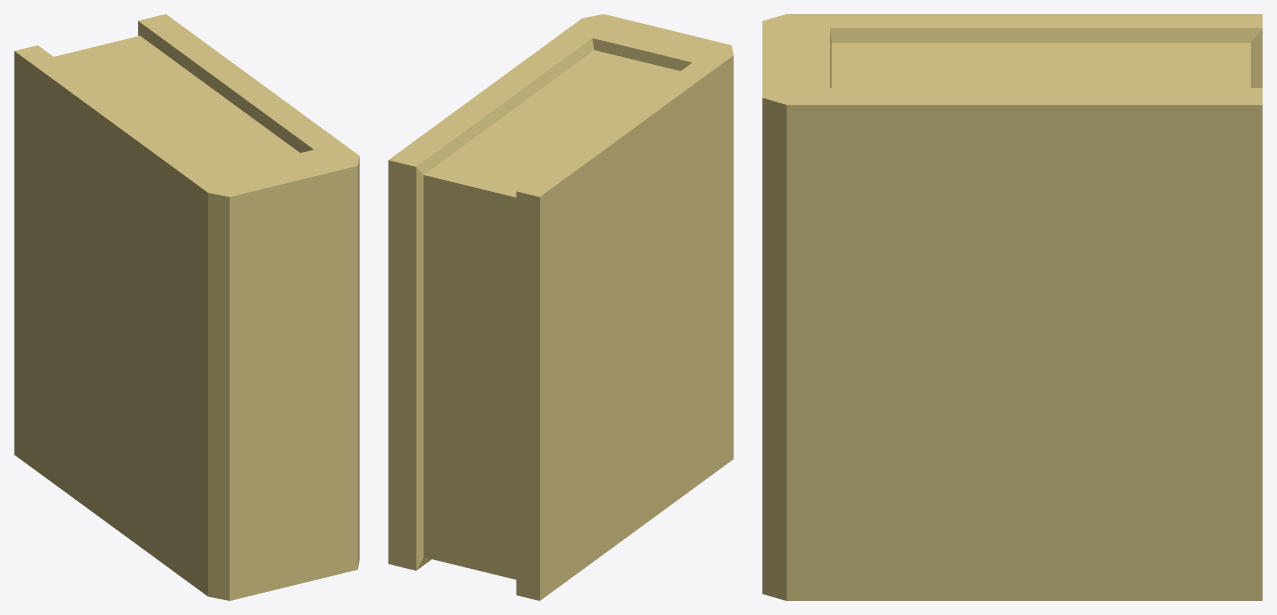
Rendered from book3.fbx.
The picture shows the model from 3 angles, left to right: view 1: azimuth 30°, elevation 25°; view 2: azimuth 150°, elevation 25°; view 3: azimuth 270°, elevation 25°; orthographic projection. The views are drawn at different scales.
Visible parts, largest first — view 1: book3; view 2: book3; view 3: book3.
Boxes of the visible parts, <box> form: book3: <box>14,14,359,600</box>; book3: <box>388,14,733,600</box>; book3: <box>762,14,1262,600</box>.
Size of the model in its own units: 6.96 by 17.72 by 16.19.
